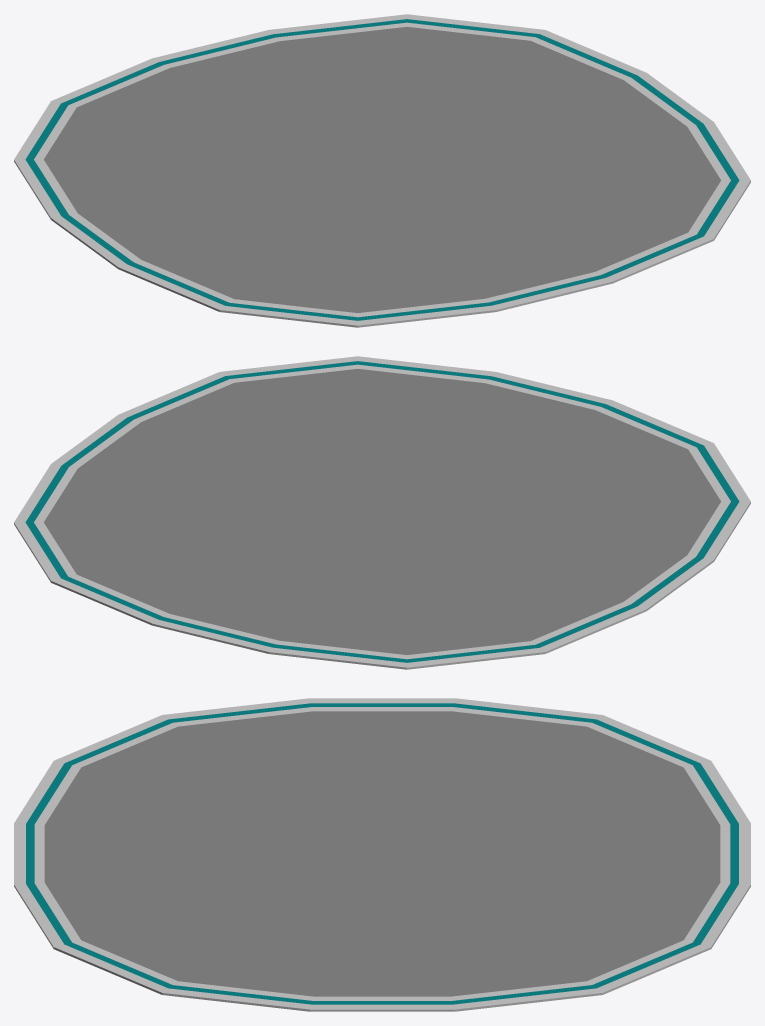
File: Carpet_1.fbx
3 renders of one model, top to bottom at view 1: azimuth 30°, elevation 25°; view 2: azimuth 150°, elevation 25°; view 3: azimuth 270°, elevation 25°, orthographic. The views are drawn at different scales.
Visible parts, largest first — view 1: Carpet_1; view 2: Carpet_1; view 3: Carpet_1.
Part boxes in pixels (left/top/right/bottom): Carpet_1: left=14, top=14, right=750, bottom=327; Carpet_1: left=14, top=356, right=750, bottom=669; Carpet_1: left=14, top=698, right=750, bottom=1011.
Bounding box in the file's own units: 2 × 0.0065 × 2.
